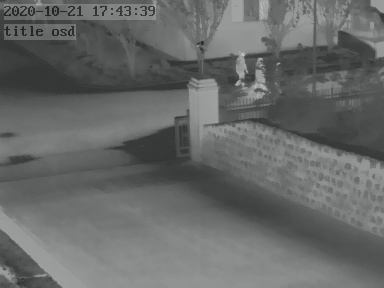person: (236, 51, 249, 89), (253, 56, 266, 93)
